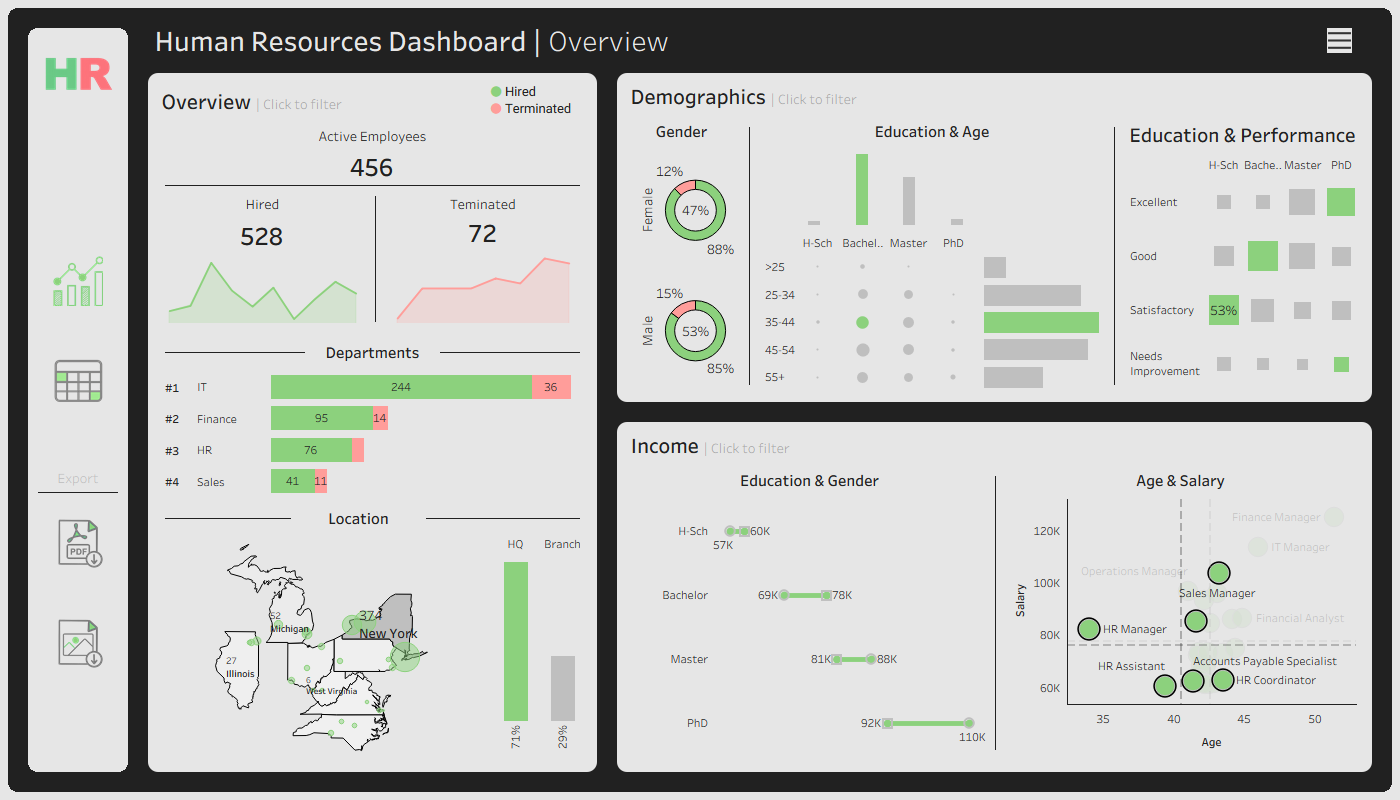

This screenshot's page, from the dashboard's own definition file:
{"tool":"tableau","page":{"name":"Summary Dashboard","canvas":[1400,800],"ordinal":1},"visuals":[{"type":"text","box":[148,8,1159,65]},{"type":"dashboard-object","box":[1307,8,65,65]},{"type":"filter","title":"Gender vs Education","param":"[federated.0yob5cm1xo00br10v5j7d03hux97].[none:Gender:nk]","box":[773,15,128.3,52]},{"type":"filter","title":"Gender vs Education","param":"[federated.0yob5cm1xo00br10v5j7d03hux97].[none:Calculation_0983581678112768:nk]","box":[901.2,15,128.3,52]},{"type":"blank","box":[1029.5,15,9,52]},{"type":"filter","title":"Gender vs Education","param":"[federated.0yob5cm1xo00br10v5j7d03hux97].[none:Calculation_0565766967013379:nk]","box":[1038.5,15,128.3,52]},{"type":"blank","box":[1166.7,15,9,52]},{"type":"filter","title":"Gender vs Education","param":"[federated.0yob5cm1xo00br10v5j7d03hux97].[yr:Hiredate:ok]","box":[1175.7,15,128.3,52]},{"type":"image","param":"Image/Logo.png","box":[28,28,100,92]},{"type":"text","box":[155,80,329,43]},{"type":"text","box":[484,80,106,43]},{"type":"text","box":[624,80,741,32]},{"type":"text","box":[624,117,115,29]},{"type":"blank","box":[749,117,1,278.5]},{"type":"text","box":[755,117,354,29]},{"type":"blank","box":[1114,117,1,278.5]},{"type":"text","box":[1120,117,245,34]},{"type":"blank","box":[28,120,100,111]},{"type":"text","box":[155,123,435,26]},{"type":"worksheet","title":"Gender Ratio","mark":"Pie","rows":["Gender"],"cols":["Calculation_0565766973345800","Calculation_0565766973345800"],"box":[624,146,115,249.5]},{"type":"worksheet","title":"Education Levels","mark":"Bar","rows":["Nr. Active Employees (copy)_0565766959542272"],"cols":["Education Level"],"box":[755,146,354,83]},{"type":"worksheet","title":"BAN Active","mark":"Text","box":[155,149,435,36]},{"type":"worksheet","title":"Education vs Performance","mark":"Square","rows":["Performance Rating"],"cols":["Education Level"],"box":[1120,151,245,244.5]},{"type":"blank","box":[155,185,435,1]},{"type":"blank","box":[375,186,1,146]},{"type":"text","box":[155,191,215,26]},{"type":"text","box":[381,191,204,26]},{"type":"worksheet","title":"BAN Hired","mark":"Text","box":[155,217,215,37]},{"type":"worksheet","title":"BAN Terminated","mark":"Text","box":[381,217,204,32]},{"type":"worksheet","title":"Age vs Education","mark":"Circle","rows":["Calculation_0565766976552970"],"cols":["Education Level"],"box":[755,229,225,166.5]},{"type":"worksheet","title":"Age Groups","mark":"Bar","rows":["Calculation_0565766976552970"],"cols":["Nr. Active Employees (copy)_0565766959542272"],"box":[980,229,129,166.5]},{"type":"dashboard-object","box":[28,231,100,100]},{"type":"worksheet","title":"Terminated by Year","mark":"Line","rows":["Nr. Active Employees (copy)_0451967388114946","Nr. Active Employees (copy)_0451967388114946"],"cols":["Termdate"],"box":[381,249,204,78]},{"type":"worksheet","title":"Hired by Year","mark":"Line","rows":["Nr. Active Employees (copy)_0565766959542272","Nr. Active Employees (copy)_0565766959542272"],"cols":["Hiredate"],"box":[155,254,215,73]},{"type":"dashboard-object","box":[28,331,100,100]},{"type":"blank","box":[165,337,140,30]},{"type":"text","box":[305,337,135,30]},{"type":"blank","box":[440,337,140,30]},{"type":"worksheet","title":"Departments","mark":"Bar","rows":["Calculation_0565766965854210","Department"],"cols":["Nr. Active Employees (copy)_0565766959542272"],"box":[155,367,435,134]},{"type":"text","box":[624,429.5,741,32]},{"type":"blank","box":[28,431,100,29]},{"type":"text","box":[28,460,100,32]},{"type":"text","box":[629,466.5,361,29]},{"type":"blank","box":[995,466.5,1,293.5]},{"type":"text","box":[1001,466.5,359,29]},{"type":"blank","box":[28,492,100,1]},{"type":"dashboard-object","box":[28,493,100,100]},{"type":"worksheet","title":"Gender vs Education","mark":"Shape","rows":["Education Level"],"cols":["Salary","Salary"],"box":[629,495.5,361,264.5]},{"type":"worksheet","title":"Age vs Salary","mark":"Circle","rows":["Salary"],"cols":["Calculation_0565766975242249"],"box":[1001,495.5,359,264.5]},{"type":"blank","box":[165,506,126,24]},{"type":"text","box":[291,506,135,24]},{"type":"blank","box":[426,506,154,24]},{"type":"worksheet","title":"Map State","mark":"Automatic","box":[155,530,333,235]},{"type":"worksheet","title":"Location","mark":"Bar","rows":["Nr. Active Employees (copy)_0565766959542272"],"cols":["Calculation_0565766967013379"],"box":[488,530,102,235]},{"type":"dashboard-object","box":[28,593,100,100]}]}

Visuals, with their boxes on the page's 1400x800 design canvas (x1, y1, x2, y2). These are canvas units, not pixel positions in the 1400x800 screenshot, which may show the page scaled, cropped or inside an application window:
text: l=148, t=8, r=1307, b=73
dashboard-object: l=1307, t=8, r=1372, b=73
"Gender vs Education" filter: l=773, t=15, r=901, b=67
"Gender vs Education" filter: l=901, t=15, r=1030, b=67
blank: l=1030, t=15, r=1038, b=67
"Gender vs Education" filter: l=1038, t=15, r=1167, b=67
blank: l=1167, t=15, r=1176, b=67
"Gender vs Education" filter: l=1176, t=15, r=1304, b=67
image: l=28, t=28, r=128, b=120
text: l=155, t=80, r=484, b=123
text: l=484, t=80, r=590, b=123
text: l=624, t=80, r=1365, b=112
text: l=624, t=117, r=739, b=146
blank: l=749, t=117, r=750, b=396
text: l=755, t=117, r=1109, b=146
blank: l=1114, t=117, r=1115, b=396
text: l=1120, t=117, r=1365, b=151
blank: l=28, t=120, r=128, b=231
text: l=155, t=123, r=590, b=149
"Gender Ratio" worksheet (Pie marks): l=624, t=146, r=739, b=396
"Education Levels" worksheet (Bar marks): l=755, t=146, r=1109, b=229
"BAN Active" worksheet (Text marks): l=155, t=149, r=590, b=185
"Education vs Performance" worksheet (Square marks): l=1120, t=151, r=1365, b=396
blank: l=155, t=185, r=590, b=186
blank: l=375, t=186, r=376, b=332
text: l=155, t=191, r=370, b=217
text: l=381, t=191, r=585, b=217
"BAN Hired" worksheet (Text marks): l=155, t=217, r=370, b=254
"BAN Terminated" worksheet (Text marks): l=381, t=217, r=585, b=249
"Age vs Education" worksheet (Circle marks): l=755, t=229, r=980, b=396
"Age Groups" worksheet (Bar marks): l=980, t=229, r=1109, b=396
dashboard-object: l=28, t=231, r=128, b=331
"Terminated by Year" worksheet (Line marks): l=381, t=249, r=585, b=327
"Hired by Year" worksheet (Line marks): l=155, t=254, r=370, b=327
dashboard-object: l=28, t=331, r=128, b=431
blank: l=165, t=337, r=305, b=367
text: l=305, t=337, r=440, b=367
blank: l=440, t=337, r=580, b=367
"Departments" worksheet (Bar marks): l=155, t=367, r=590, b=501
text: l=624, t=430, r=1365, b=462
blank: l=28, t=431, r=128, b=460
text: l=28, t=460, r=128, b=492
text: l=629, t=466, r=990, b=496
blank: l=995, t=466, r=996, b=760
text: l=1001, t=466, r=1360, b=496
blank: l=28, t=492, r=128, b=493
dashboard-object: l=28, t=493, r=128, b=593
"Gender vs Education" worksheet (Shape marks): l=629, t=496, r=990, b=760
"Age vs Salary" worksheet (Circle marks): l=1001, t=496, r=1360, b=760
blank: l=165, t=506, r=291, b=530
text: l=291, t=506, r=426, b=530
blank: l=426, t=506, r=580, b=530
"Map State" worksheet: l=155, t=530, r=488, b=765
"Location" worksheet (Bar marks): l=488, t=530, r=590, b=765
dashboard-object: l=28, t=593, r=128, b=693
